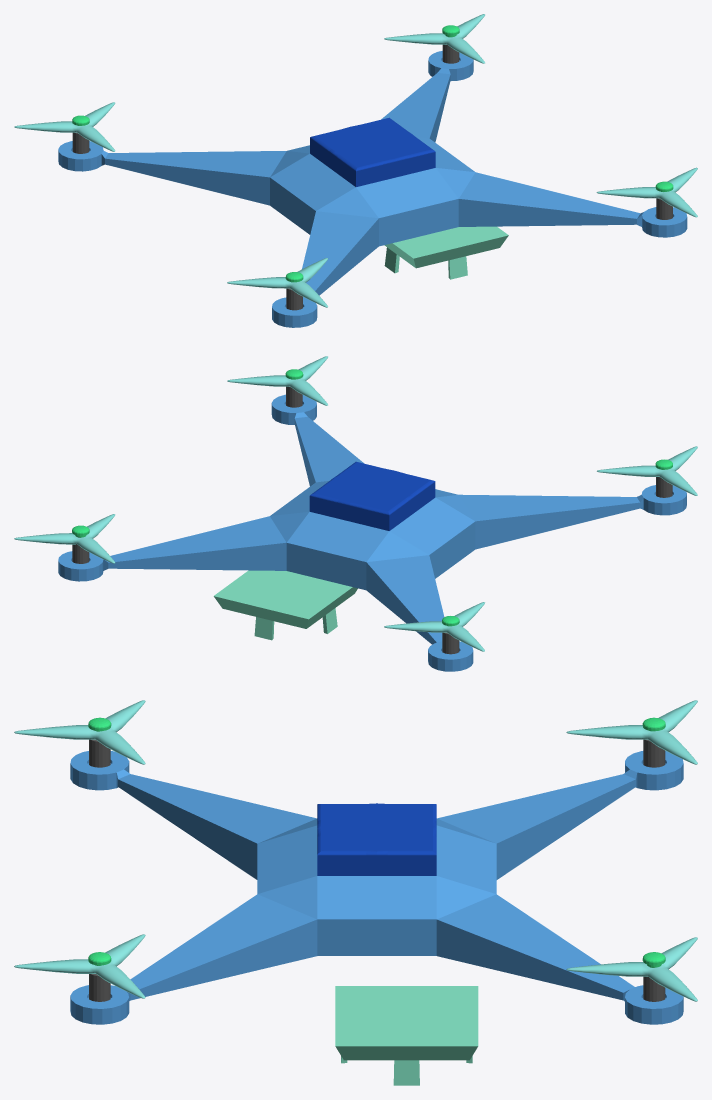
The model's file is drone2fbx.fbx.
3 views of the same model, one above another, from view 1: azimuth 30°, elevation 25°; view 2: azimuth 150°, elevation 25°; view 3: azimuth 270°, elevation 25° (orthographic). The views are drawn at different scales.
Visible parts, largest first — view 1: Cube.001, Cube, Circle, Circle.001, Circle.003, Circle.002; view 2: Cube.001, Cube, Circle, Circle.003, Circle.001, Circle.002; view 3: Cube.001, Cube, Circle, Circle.002, Circle.003, Circle.001.
Boxes of the visible parts, <box> form: Cube.001: <box>58,25,687,327</box>; Cube: <box>384,226,508,279</box>; Circle: <box>384,14,484,63</box>; Circle.001: <box>14,102,115,151</box>; Circle.003: <box>596,167,697,217</box>; Circle.002: <box>227,258,327,307</box>; Cube.001: <box>58,369,686,671</box>; Cube: <box>213,570,357,640</box>; Circle: <box>14,514,115,563</box>; Circle.003: <box>227,356,327,405</box>; Circle.001: <box>384,602,484,651</box>; Circle.002: <box>597,446,697,495</box>; Cube.001: <box>70,717,683,1024</box>; Cube: <box>335,986,478,1085</box>; Circle: <box>566,937,697,1001</box>; Circle.002: <box>14,700,145,764</box>; Circle.003: <box>14,934,145,998</box>; Circle.001: <box>566,700,697,764</box>.
Bounding box in the file's own units: 9.87 × 2.85 × 9.57.
